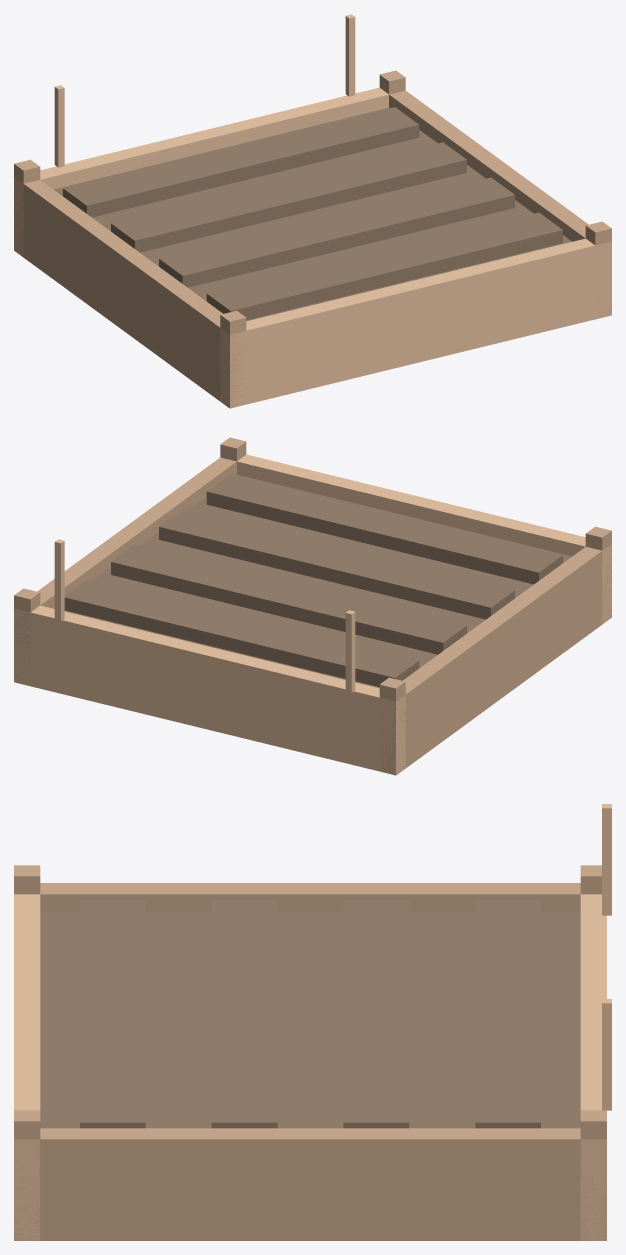
Rendered from gardenVegpatch.glb.
3 views of the same model, one above another, from view 1: azimuth 30°, elevation 25°; view 2: azimuth 150°, elevation 25°; view 3: azimuth 270°, elevation 25° (orthographic). The views are drawn at different scales.
Visible parts, largest first — view 1: gardenVegpatch; view 2: gardenVegpatch; view 3: gardenVegpatch.
Part boxes in pixels (box(x1,y1,x2,y2)): gardenVegpatch: box(14, 14, 611, 408); gardenVegpatch: box(14, 437, 611, 775); gardenVegpatch: box(14, 804, 611, 1240).
Size of the model in its own units: 0.92 by 0.35 by 0.9075.
